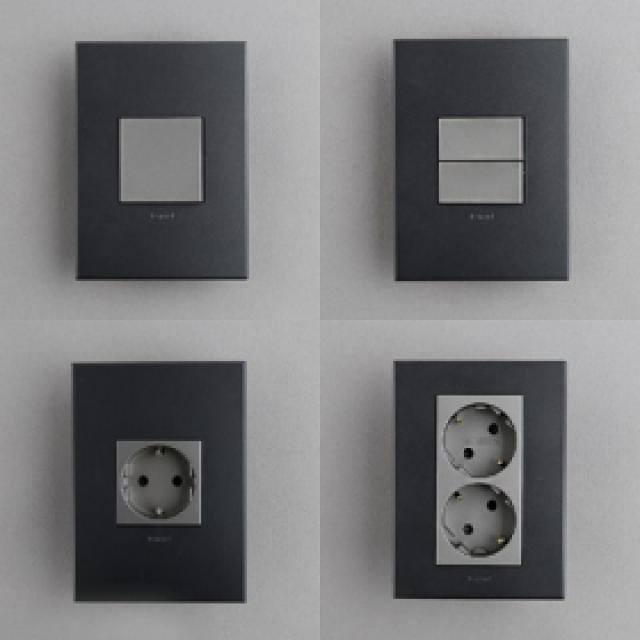typeb: (362, 340, 586, 616), (55, 342, 282, 611)
